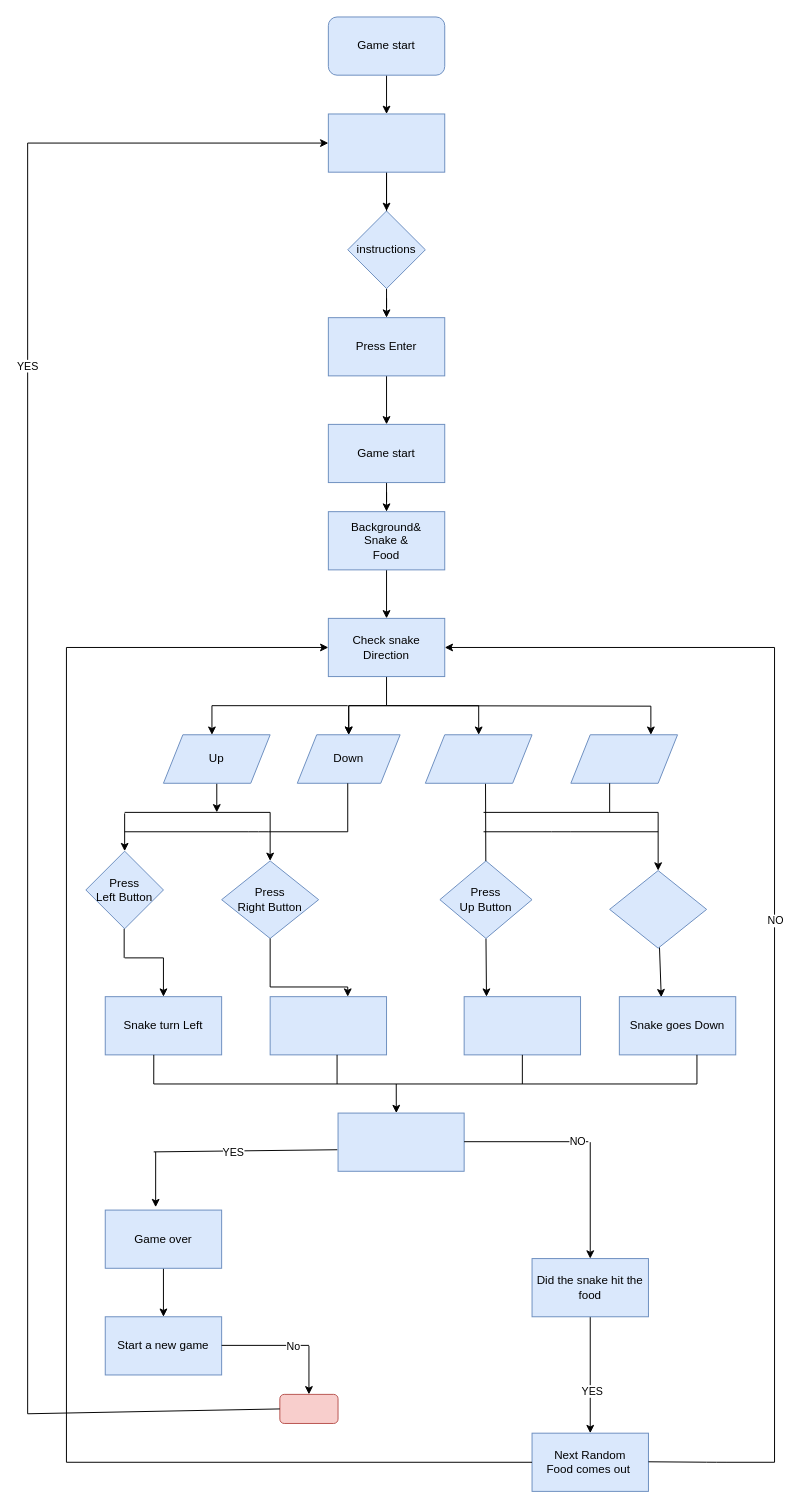
This 800x1508 diagram has some shape labels left out. Here are the shapes that lost their labels. From the top down, the centre of each, then its label:
(386,142): Start button
(478,758): Left
(624,758): Right
(658,909): Press Down button
(328,1025): Snake turn Right
(522,1025): Snake Goes up
(400,1141): Did the snake hit on the border
(308,1408): End
